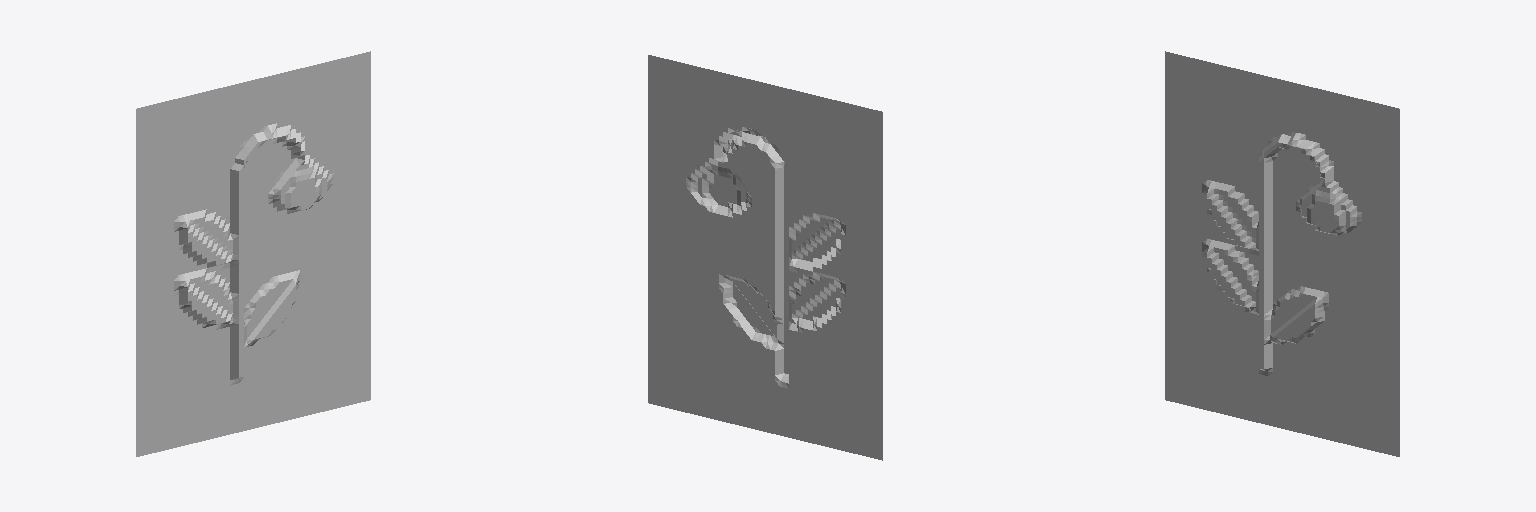
The model's file is snowdrop.obj.
3 views of the same model, side by side, from view 1: azimuth 30°, elevation 25°; view 2: azimuth 150°, elevation 25°; view 3: azimuth 330°, elevation 25° (orthographic).
Visible parts, largest first — view 1: Plane.028; view 2: Plane.028; view 3: Plane.028.
Boxes of the visible parts, box(x1,y1,x2,y2) form: Plane.028: box(136, 51, 370, 456); Plane.028: box(648, 55, 882, 460); Plane.028: box(1165, 51, 1399, 456).
Bounding box in the file's own units: 2.96 × 4.2 × 0.0987.